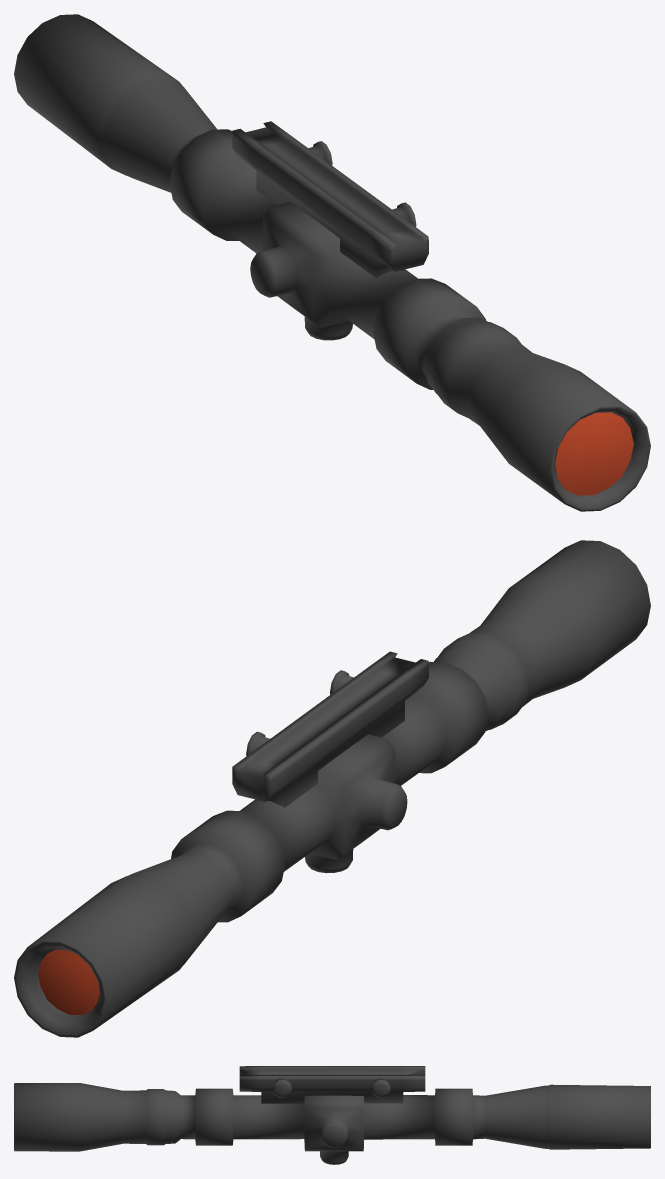
File: Scope.fbx
3 views of the same model, one above another, from view 1: azimuth 30°, elevation 25°; view 2: azimuth 150°, elevation 25°; view 3: azimuth 270°, elevation 25° (orthographic). The views are drawn at different scales.
Visible parts, largest first — view 1: Scope; view 2: Scope; view 3: Scope.
Boxes of the visible parts, x1,y1,x2,y2 form: Scope: (14, 14, 650, 511); Scope: (14, 540, 650, 1037); Scope: (14, 1066, 650, 1164).
Bounding box in the file's own units: 0.263 × 0.2742 × 1.77.
